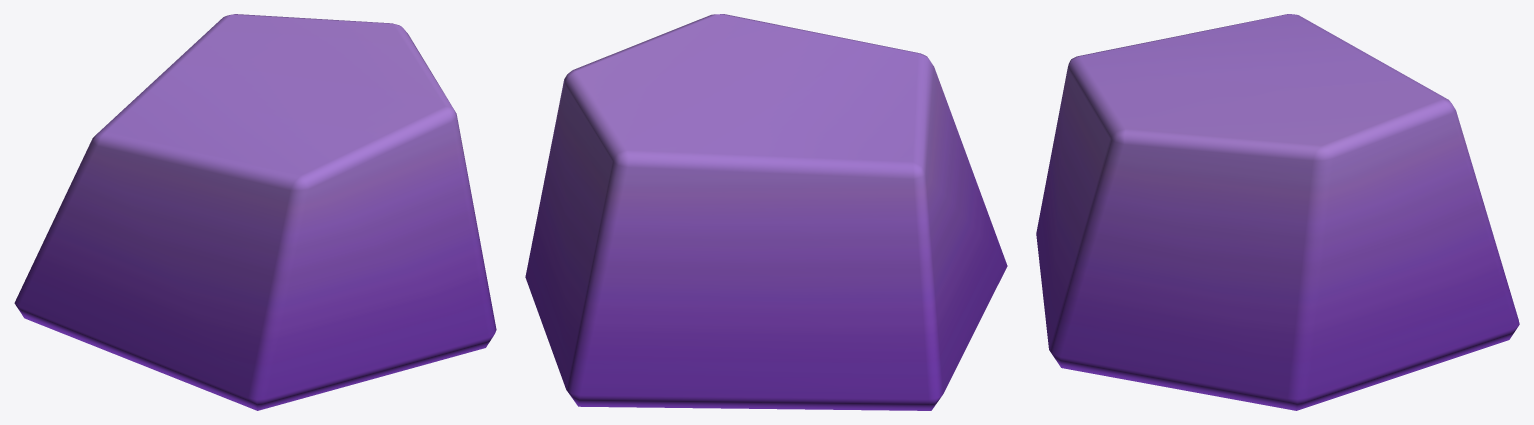
The model's file is Rock_03.glb.
3 renders of one model, left to right at view 1: azimuth 30°, elevation 25°; view 2: azimuth 150°, elevation 25°; view 3: azimuth 270°, elevation 25°, orthographic. The views are drawn at different scales.
Parts seen in each view (by area): view 1: Rock_03; view 2: Rock_03; view 3: Rock_03.
Part boxes in pixels (x1,y1,x2,y2): Rock_03: (14,14,496,410); Rock_03: (525,14,1007,410); Rock_03: (1036,14,1519,410).
Size of the model in its own units: 16.91 by 8.84 by 16.06.
1 material, 1 textured.
